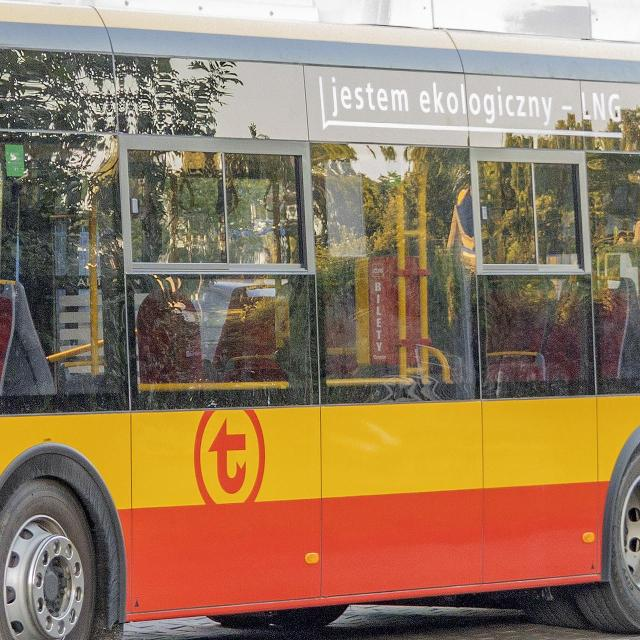Bus: (0, 2, 640, 640)
